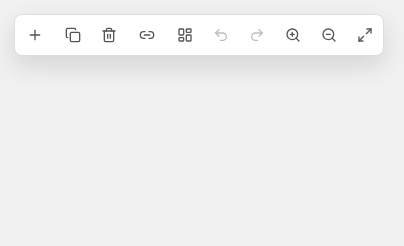
Test: WorkflowCanvasToolbar › renders system-style icons in node and connection menus
What coordinates should you click on to do the following:
click the button named "添加节点"
I would click on:
 (35, 35)
Its box is 19,19 -> 51,51.
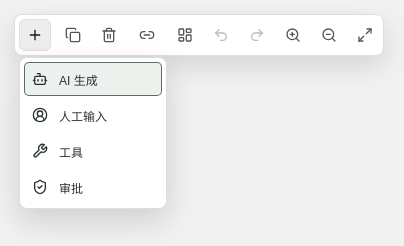
Expected: the menu "AI 生成" is shown, 19,57 -> 167,209
Expected: the 1st icon with test id "workflow-node-type-icon" is shown, 32,71 -> 48,87
What coordinates should you click on to do the following:
click the button named "添加连线"
I would click on:
 (147, 35)
Its box is 131,19 -> 163,51.
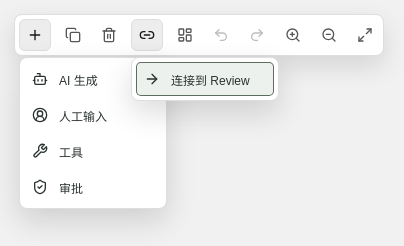
Expected: the menu "连接到 Review" is shown, 131,57 -> 279,101
Expected: the icon with test id "workflow-connect-target-icon" is shown, 144,71 -> 160,87
